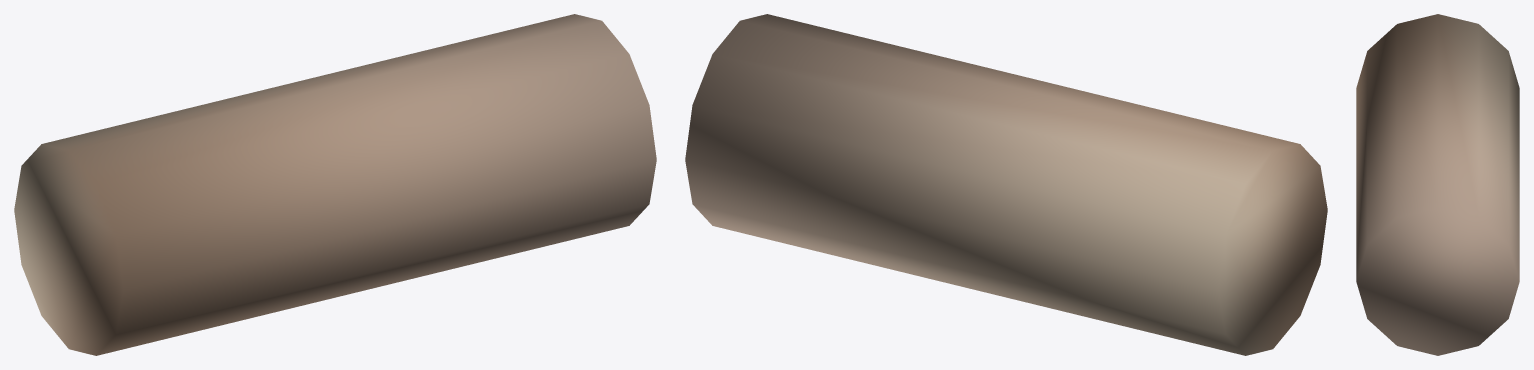
Rendered from log.glb.
The picture shows the model from 3 angles, left to right: view 1: azimuth 30°, elevation 25°; view 2: azimuth 150°, elevation 25°; view 3: azimuth 270°, elevation 25°; orthographic projection. The views are drawn at different scales.
Parts seen in each view (by area): view 1: Body; view 2: Body; view 3: Body.
Part boxes in pixels (left/top/right/bottom): Body: left=14, top=14, right=656, bottom=355; Body: left=685, top=14, right=1327, bottom=355; Body: left=1356, top=14, right=1519, bottom=355.
Size of the model in its own units: 0.9 by 0.32 by 0.32.
